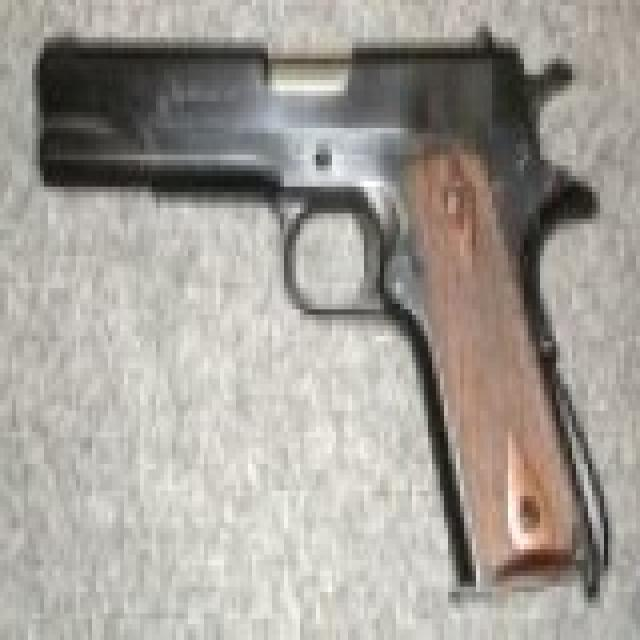pistol: (40, 16, 624, 587)
